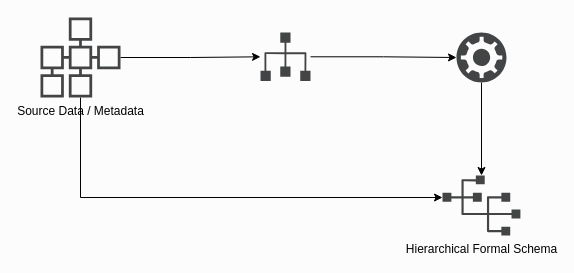
The diagram is 574 pixels wide and 273 high, and some of its shapes have lost their labels. Each missing label, with the centre of its shape:
"Convenience Schema" belongs at pixel 285 56.
"Standardised Executable Crosswalk" belongs at pixel 481 57.
